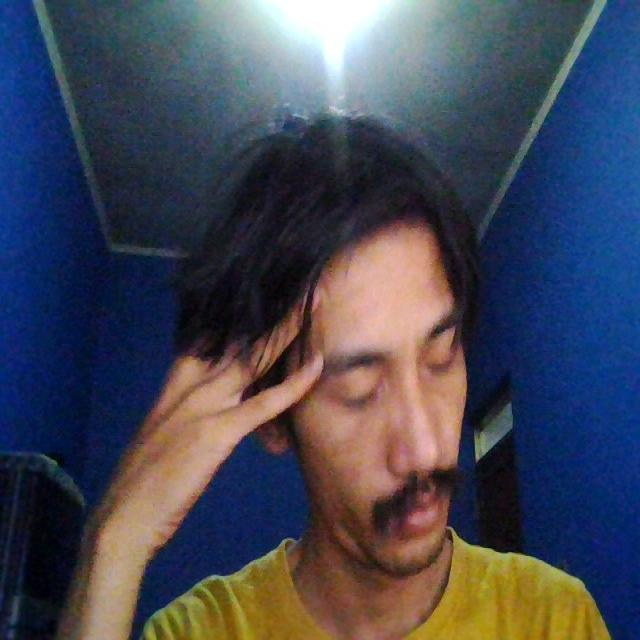movement: (134, 130, 505, 600)
